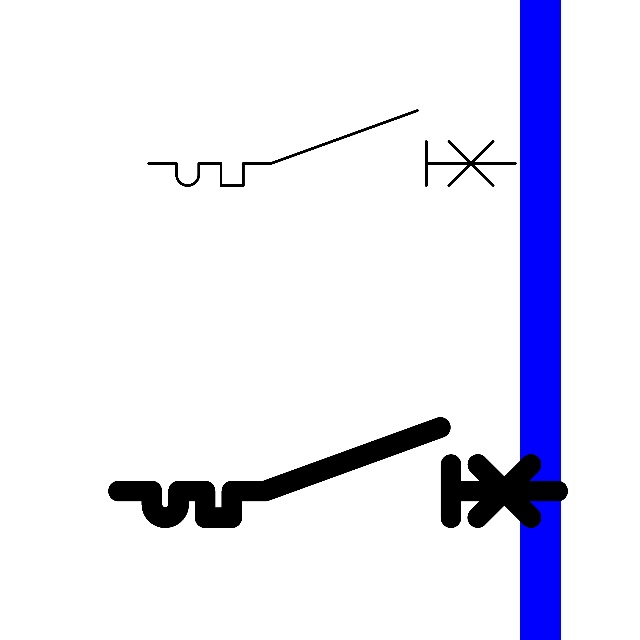interruptor_termomagnetico: (107, 416, 569, 529), (139, 101, 525, 195)
